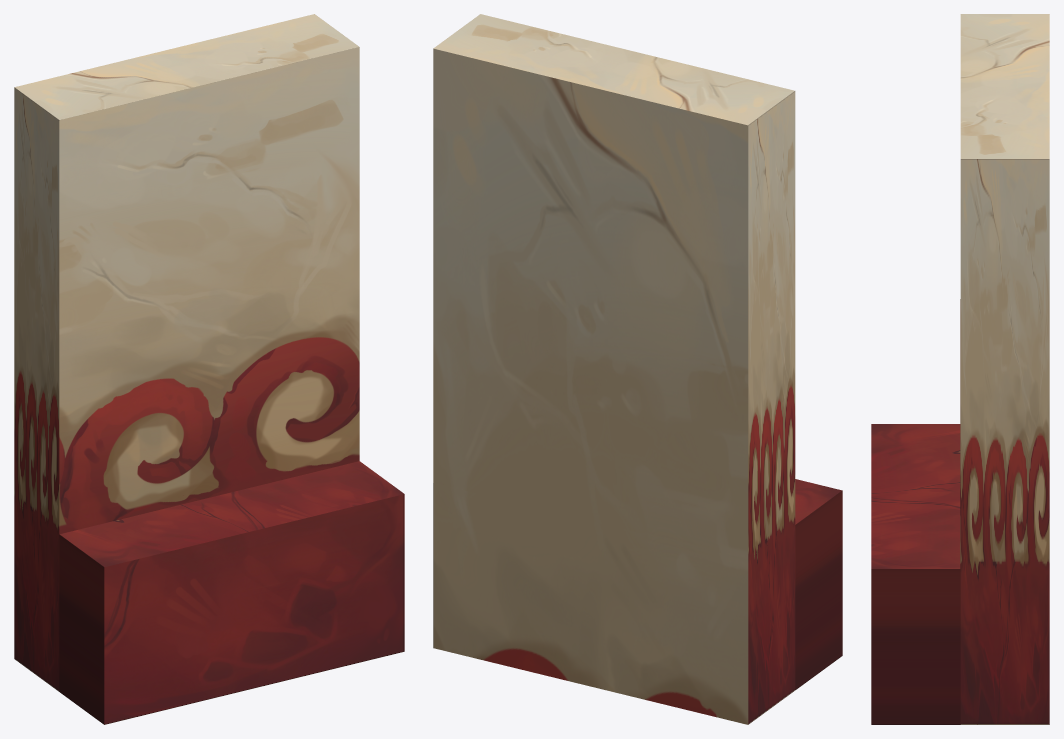
Rendered from mini_mur1.fbx.
The picture shows the model from 3 angles, left to right: view 1: azimuth 30°, elevation 25°; view 2: azimuth 150°, elevation 25°; view 3: azimuth 270°, elevation 25°; orthographic projection. The views are drawn at different scales.
Visible parts, largest first — view 1: Box006; view 2: Box006; view 3: Box006.
Part boxes in pixels (x1=…): Box006: x1=14, y1=14, x2=404, y2=724; Box006: x1=433, y1=14, x2=842, y2=724; Box006: x1=871, y1=14, x2=1049, y2=724.
Size of the model in its own units: 962 by 1750 by 500.
